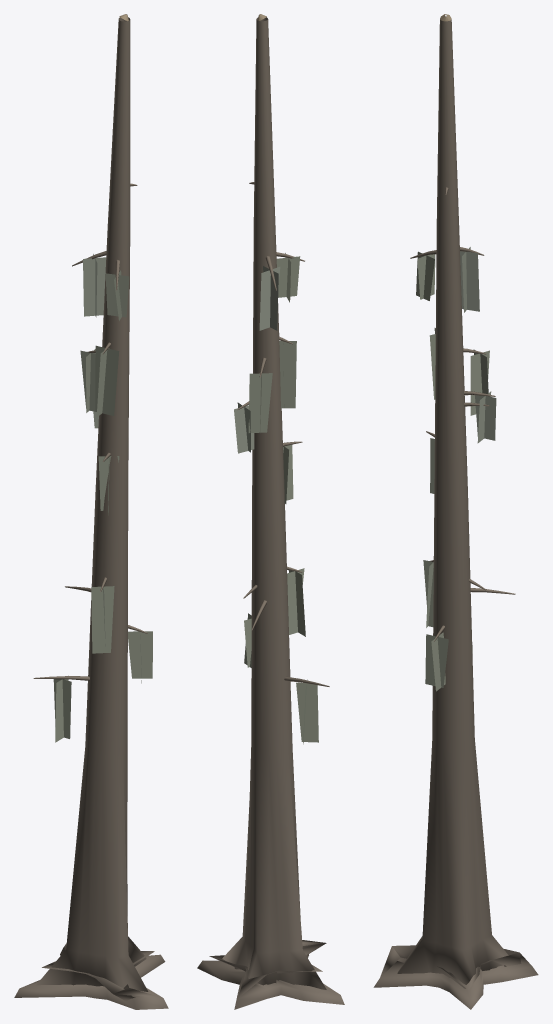
The model's file is snag_tall_moss.glb.
3 views of the same model, side by side, from view 1: azimuth 30°, elevation 25°; view 2: azimuth 150°, elevation 25°; view 3: azimuth 270°, elevation 25° (orthographic).
Visible parts, largest first — view 1: snag_tall_moss; view 2: snag_tall_moss; view 3: snag_tall_moss.
Part boxes in pixels (box(x1,y1,x2,y2)): snag_tall_moss: box(14, 14, 168, 1009); snag_tall_moss: box(197, 14, 344, 1009); snag_tall_moss: box(373, 14, 538, 1009).
Bounding box in the file's own units: 3.17 × 19.49 × 3.01.
